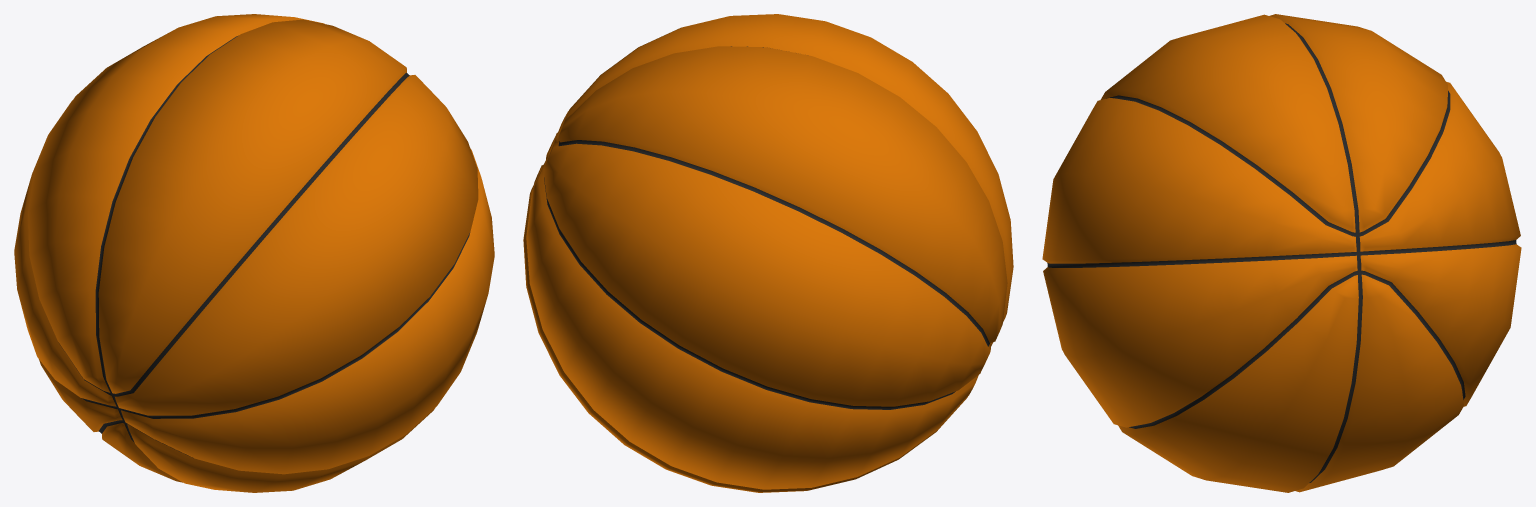
Rendered from basketball.glb.
3 views of the same model, side by side, from view 1: azimuth 30°, elevation 25°; view 2: azimuth 150°, elevation 25°; view 3: azimuth 270°, elevation 25° (orthographic).
Visible parts, largest first — view 1: Sphere; view 2: Sphere; view 3: Sphere.
Boxes of the visible parts, x1=… form: Sphere: x1=14, y1=14, x2=494, y2=492; Sphere: x1=523, y1=14, x2=1013, y2=492; Sphere: x1=1042, y1=14, x2=1521, y2=492.
Size of the model in its own units: 0.2439 by 0.2414 by 0.2413.
